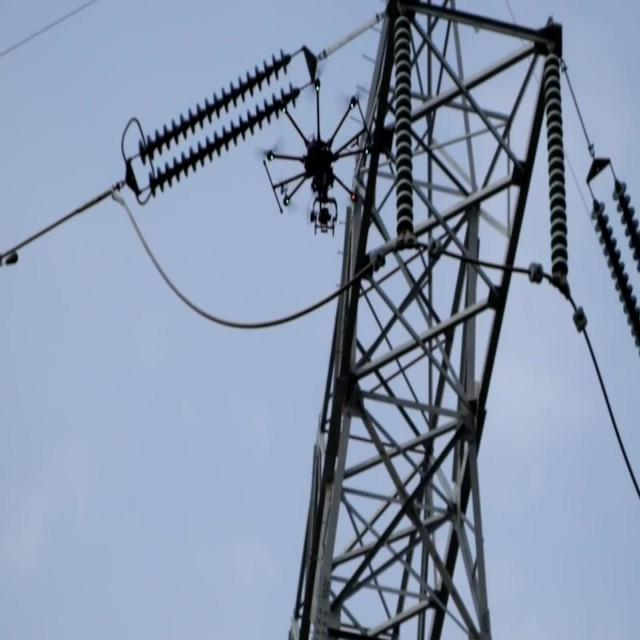UAV: (262, 78, 374, 236)
